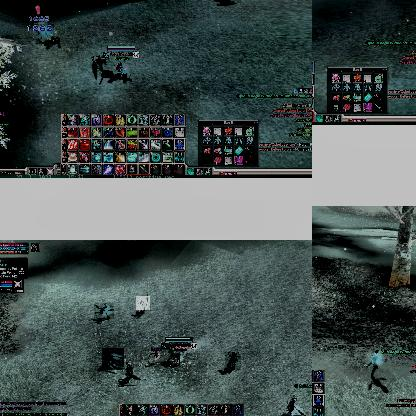caliana: (102, 348, 124, 370), (286, 396, 305, 416), (366, 353, 380, 379), (36, 24, 54, 44), (94, 303, 114, 319), (92, 56, 106, 78), (126, 362, 140, 384), (225, 352, 241, 370), (136, 296, 150, 310)
